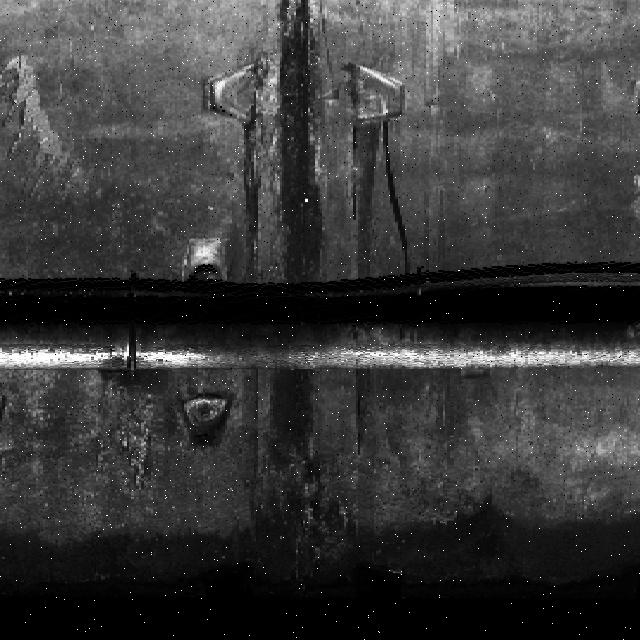leakage: (1, 500, 636, 640), (275, 1, 343, 286), (349, 121, 403, 285), (263, 372, 323, 486), (348, 373, 379, 473)
